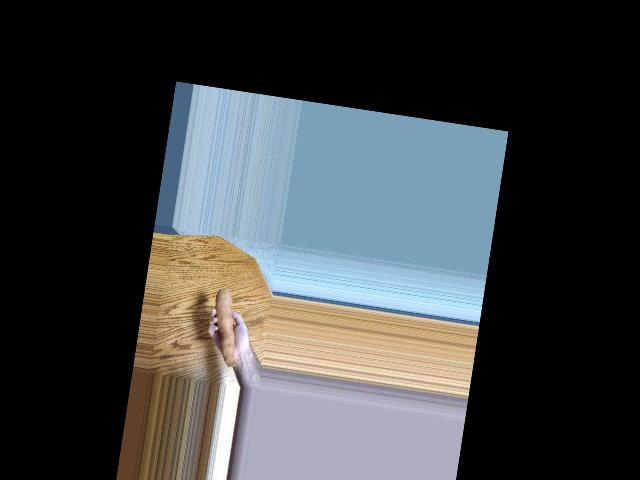sweet_potato: (205, 285, 244, 364)
